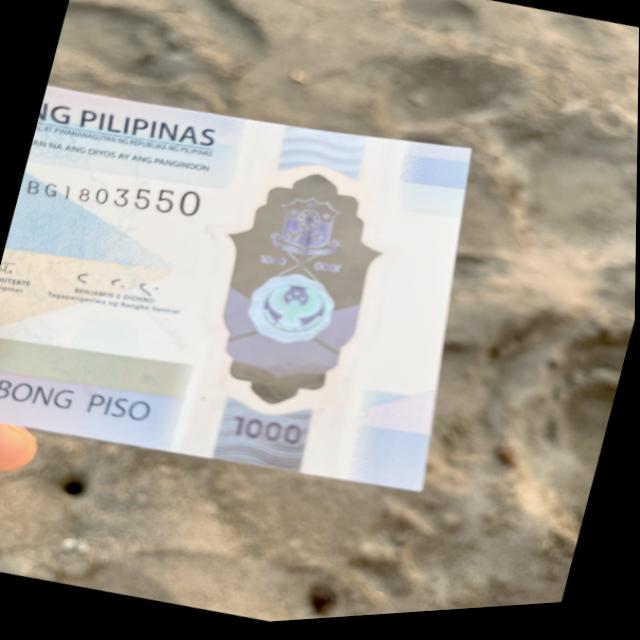clear_window: (151, 112, 433, 506)
